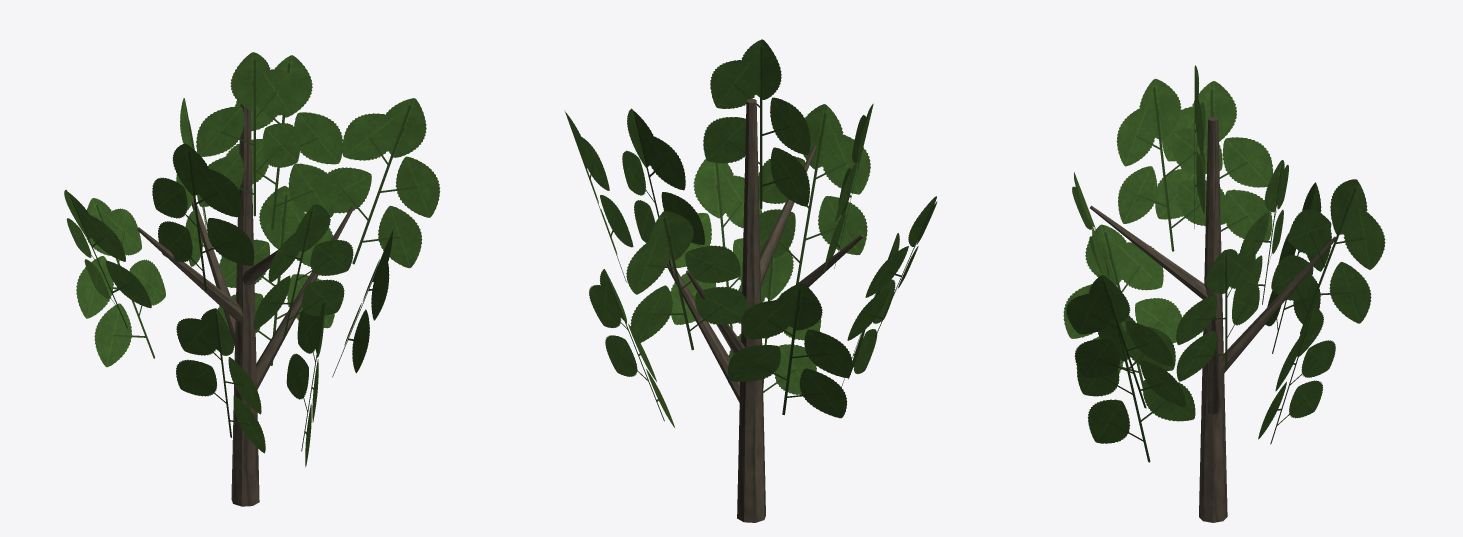
The model's file is alder_sprig_lod0.glb.
3 renders of one model, left to right at view 1: azimuth 30°, elevation 25°; view 2: azimuth 150°, elevation 25°; view 3: azimuth 270°, elevation 25°, orthographic. The views are drawn at different scales.
Parts seen in each view (by area): view 1: alder_sprig_lod0_leaves, alder_sprig_lod0_wood; view 2: alder_sprig_lod0_leaves, alder_sprig_lod0_wood; view 3: alder_sprig_lod0_leaves, alder_sprig_lod0_wood.
Boxes of the visible parts, box(x1,y1,x2,y2) form: alder_sprig_lod0_leaves: box(64, 52, 440, 467); alder_sprig_lod0_wood: box(137, 104, 353, 506); alder_sprig_lod0_leaves: box(564, 39, 937, 427); alder_sprig_lod0_wood: box(666, 98, 863, 522); alder_sprig_lod0_leaves: box(1063, 65, 1385, 462); alder_sprig_lod0_wood: box(1090, 117, 1335, 522).
Size of the model in its own units: 1.13 by 1.2 by 1.06.
Materials: 2 (2 with a texture image).
